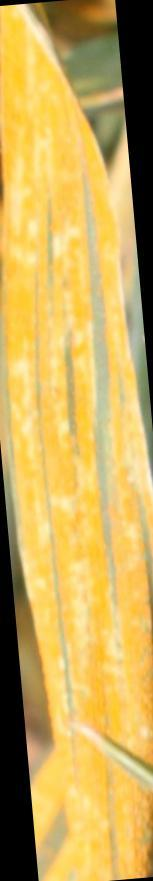Wheat: (5, 261, 145, 698)
